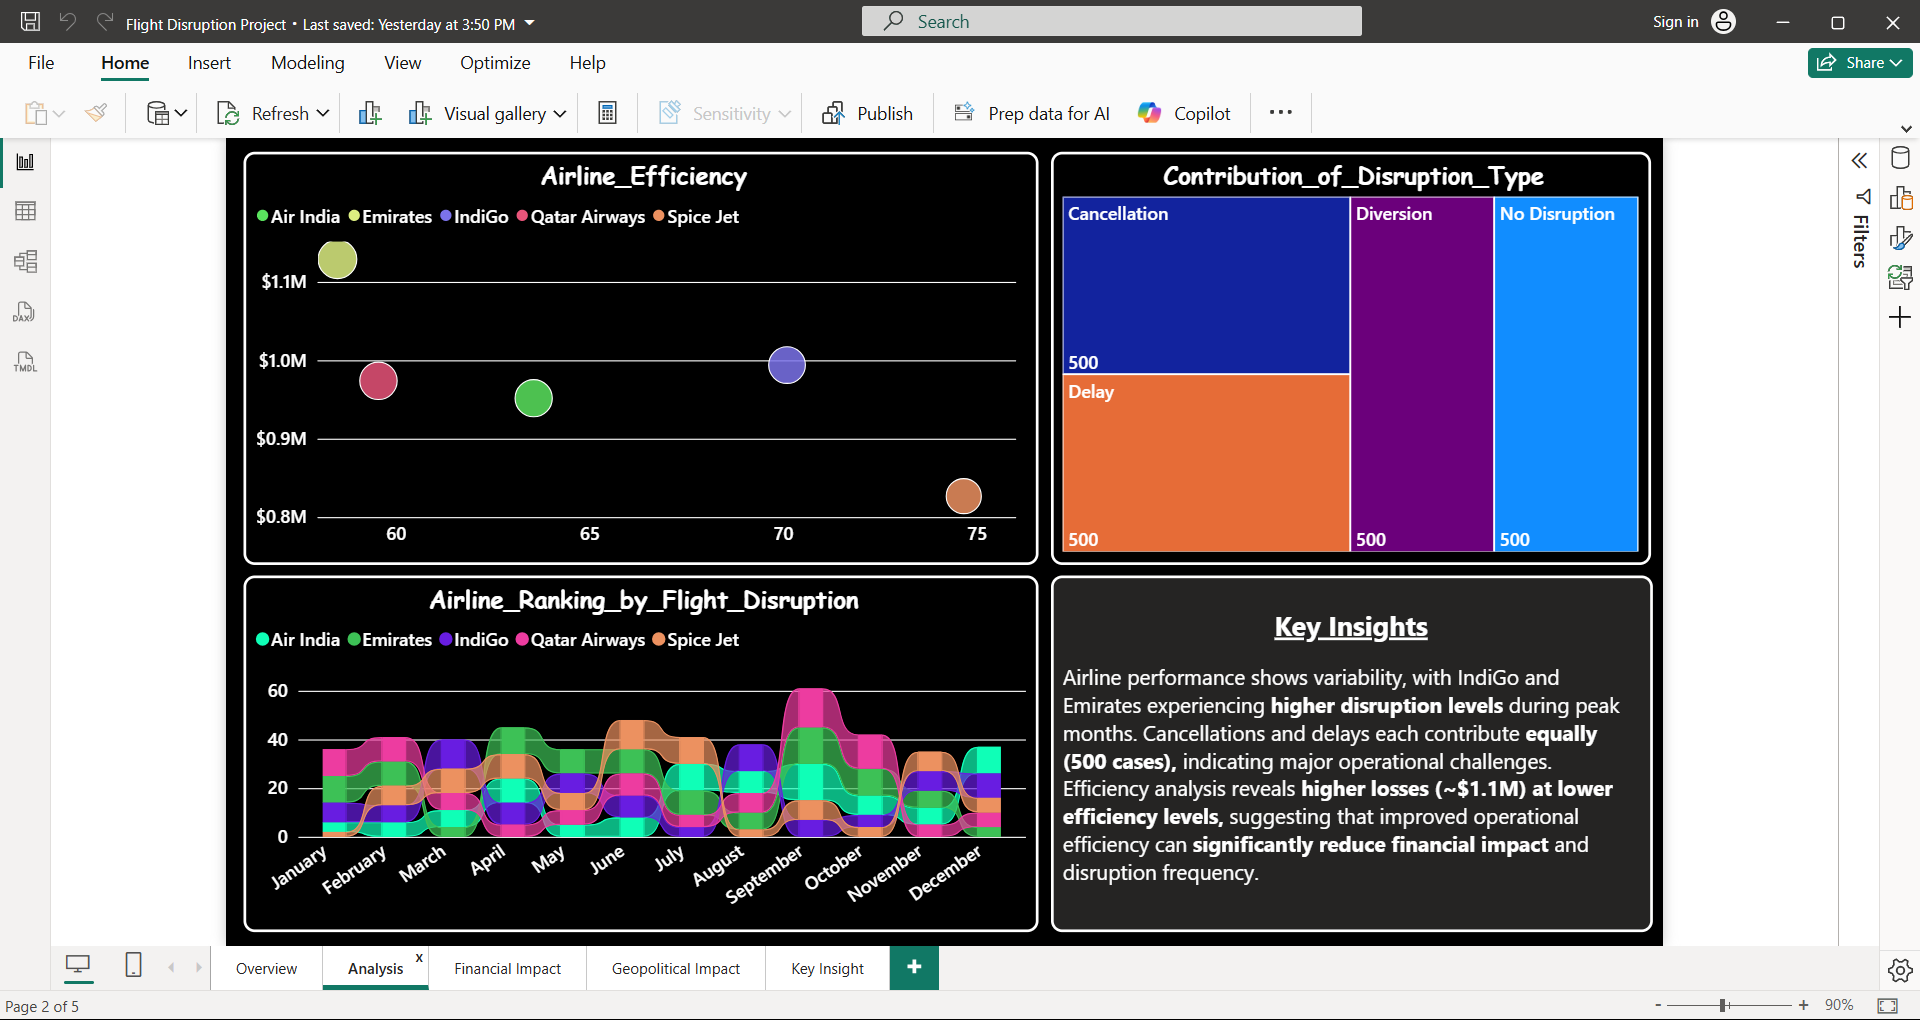

Layout of this report page (visuals, bound fields, positions):
{"tool":"powerbi","page":{"name":"Analysis","canvas":[1280,720],"ordinal":1},"visuals":[{"type":"scatterChart","title":"Airline_Efficiency","fields":{"X":["Measure_F.Avg Delay"],"Y":["Measure_F.Total Loss"],"Size":["Measure_F.Disrupted Flights"],"Series":["Flight_Disruption.Airline Name"]},"box":[15.7,12.1,708.2,368],"z":0},{"type":"ribbonChart","title":"Airline_Ranking_by_Flight_Disruption","fields":{"Category":["Flight_Disruption.Date of Disruption.Variation.Date Hierarchy.Month"],"Series":["Flight_Disruption.Airline Name"],"Y":["Measure_F.Disrupted Flights"]},"box":[15.7,389.7,708.2,317.3],"z":1000},{"type":"treemap","title":"Contribution_of_Disruption_Type","fields":{"Group":["Flight_Disruption.Disruption Type"],"Values":["Measure_F.Disrupted Flights"]},"box":[734.7,12.1,534.5,368],"z":2000},{"type":"textbox","box":[734.7,389.7,535.7,317.3],"z":2001}]}

Visuals, with their boxes on the page's 1280x720 design canvas (x1, y1, x2, y2). These are canvas units, not pixel positions in the 1920x1020 screenshot, which may show the page scaled, cropped or inside an application window:
"Airline_Efficiency" scatterChart: (16, 12, 724, 380)
"Airline_Ranking_by_Flight_Disruption" ribbonChart: (16, 390, 724, 707)
"Contribution_of_Disruption_Type" treemap: (735, 12, 1269, 380)
textbox: (735, 390, 1270, 707)
